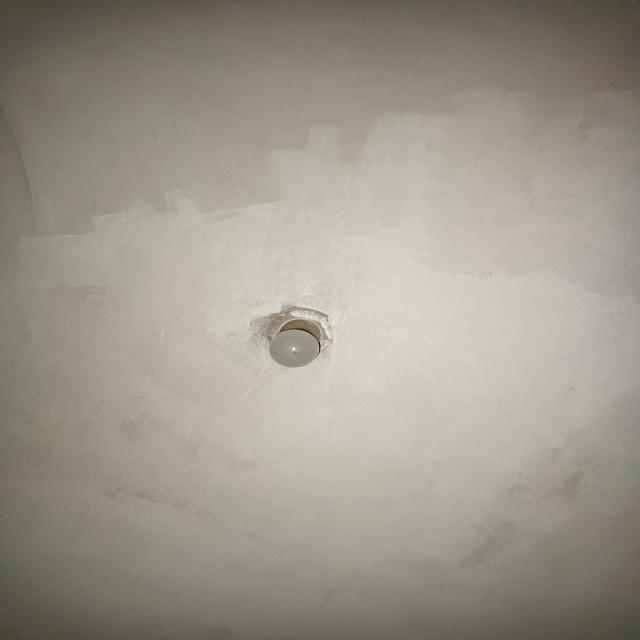bulb_off: (269, 318, 323, 369)
